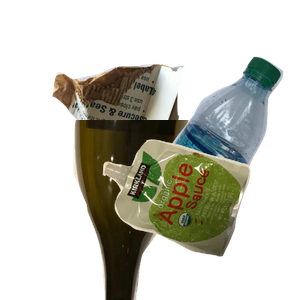cardboard: (50, 62, 228, 226)
glass: (71, 120, 254, 300)
plastic: (142, 54, 300, 234)
trash: (100, 137, 300, 300)
